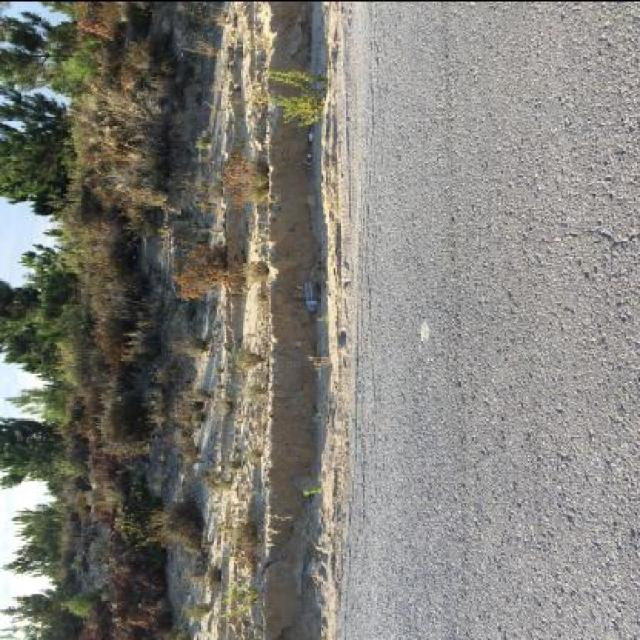plastic: (304, 280, 319, 312)
